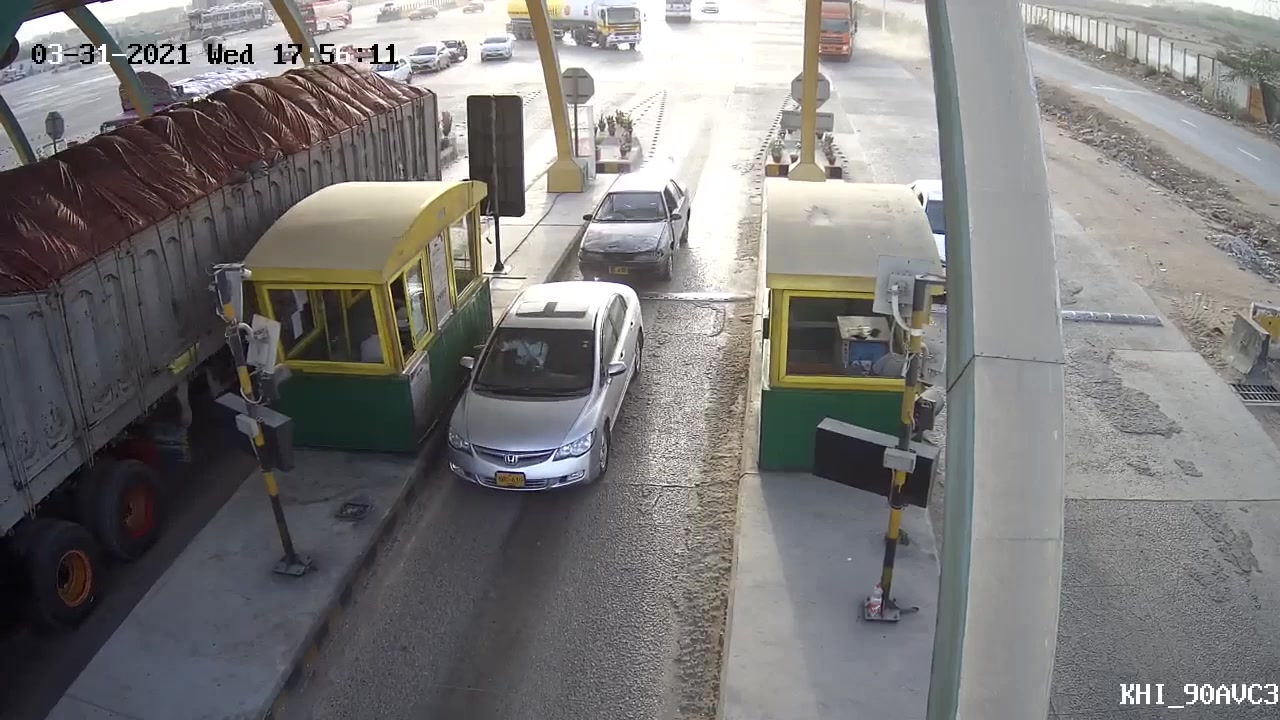F1: (442, 279, 648, 495), (574, 160, 699, 281)
